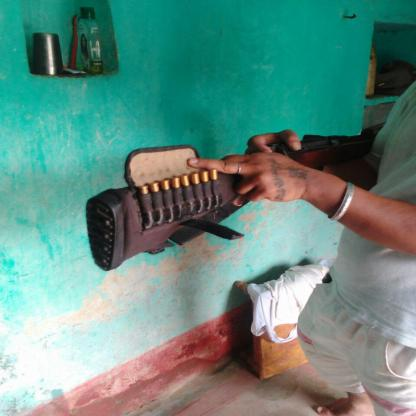rifle: (83, 130, 392, 272)
